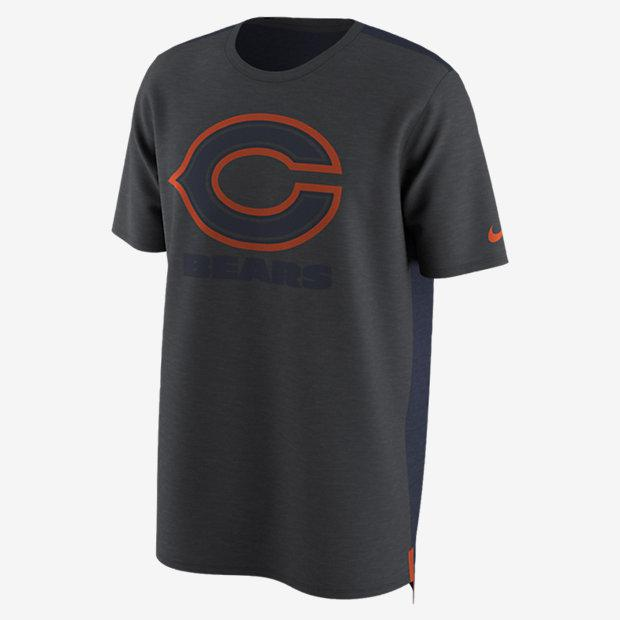teeshirt: (85, 5, 549, 609)
